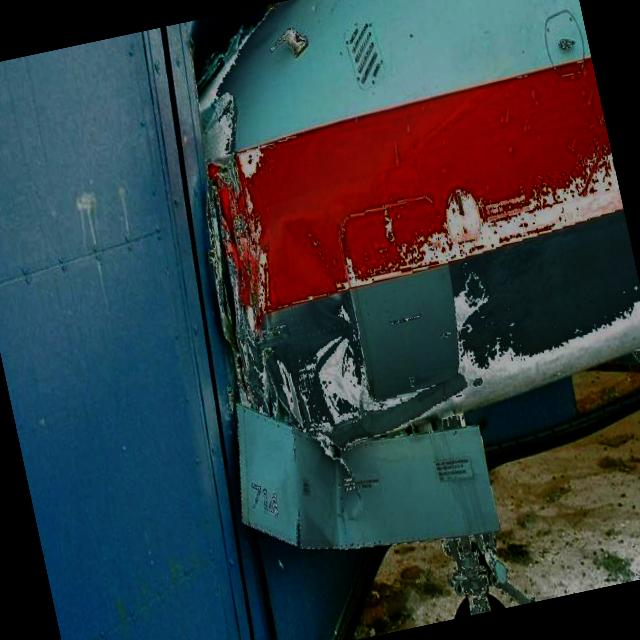dent: (276, 210, 372, 424)
